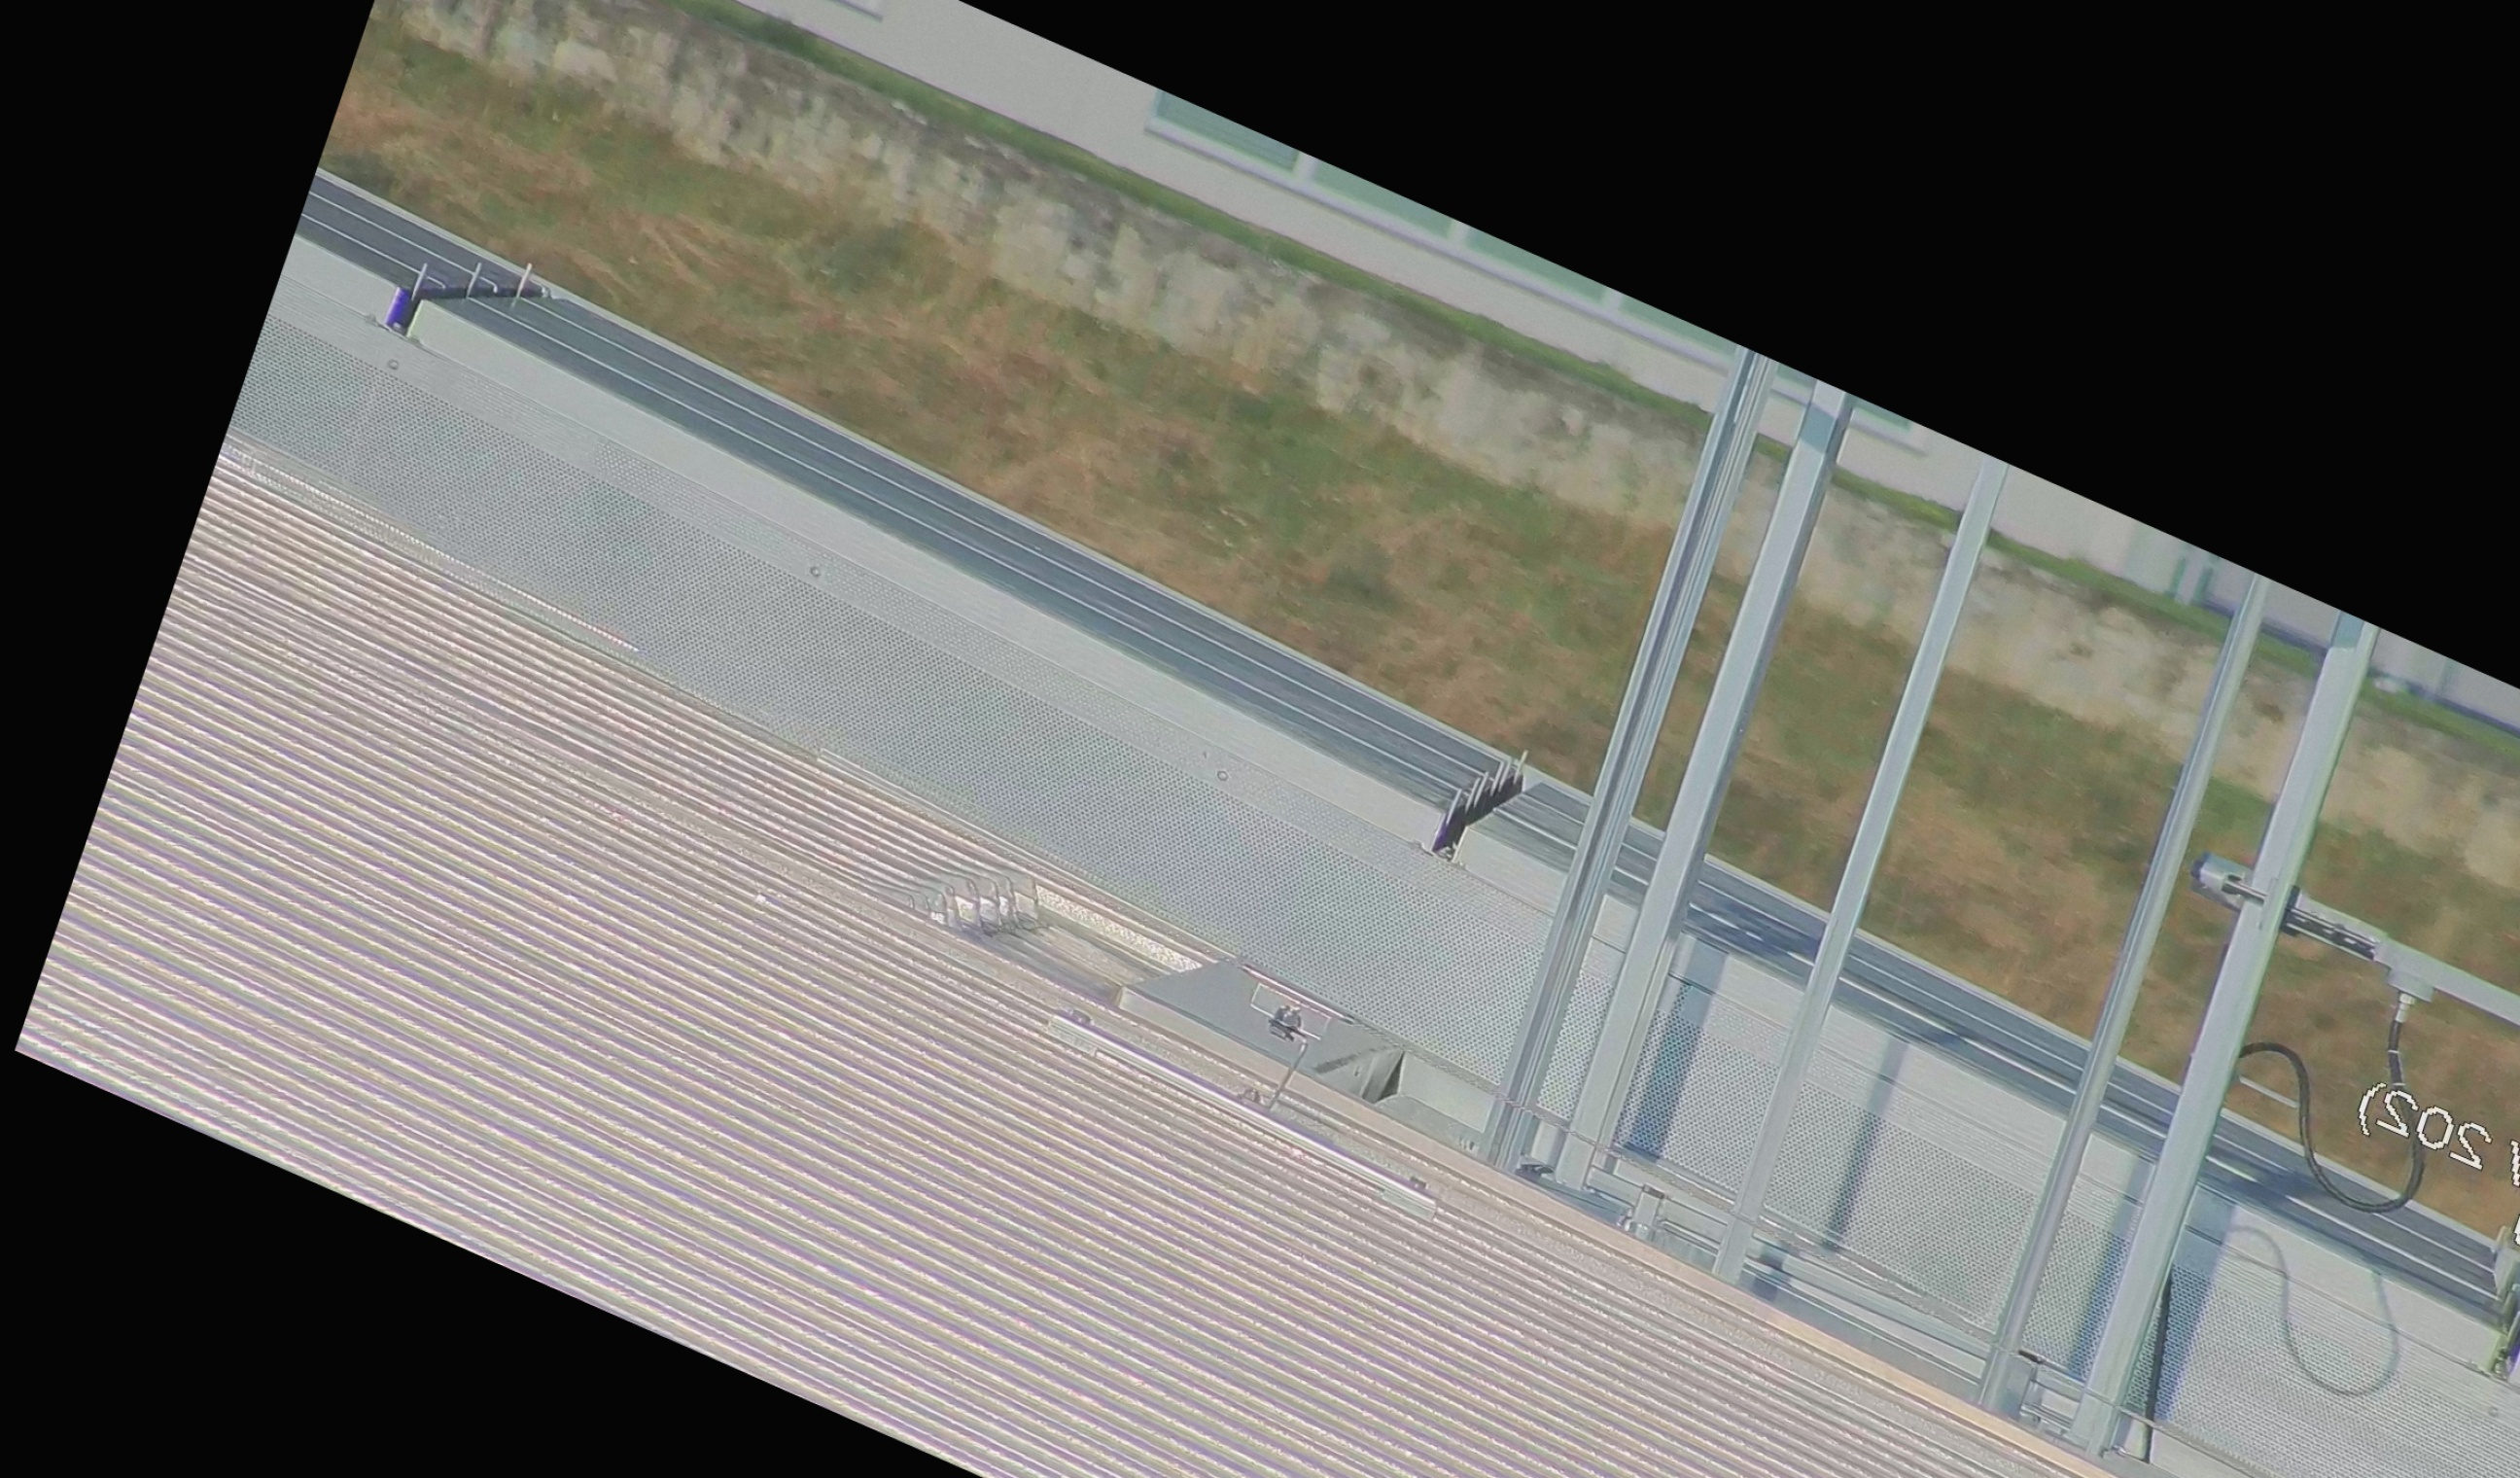Other: (1402, 714, 1551, 897)
